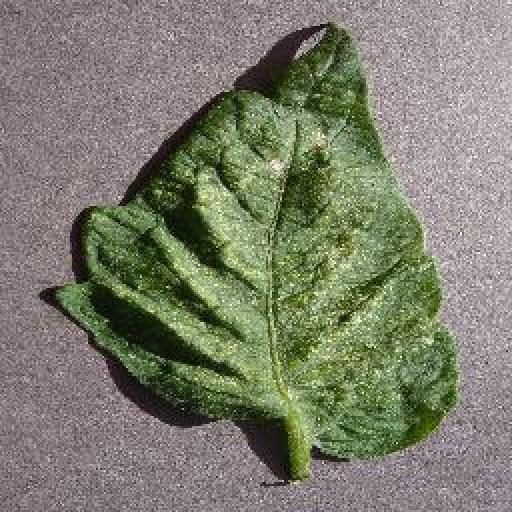disease_tomato: (52, 27, 459, 460)
